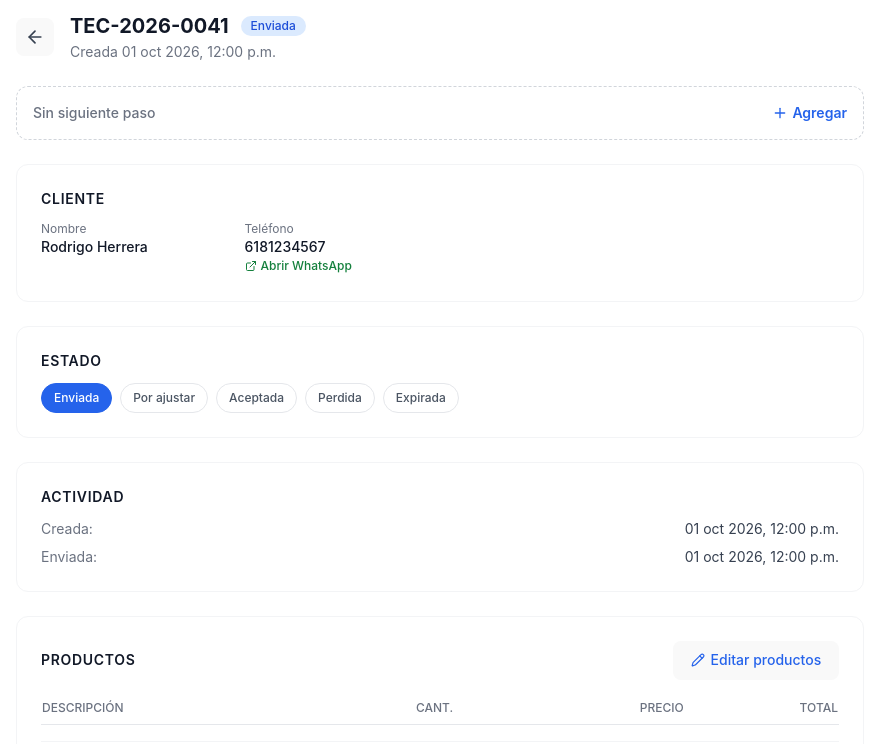
Test case: adds a next step: text, owner and a quick due date in a few taps
Click the button "Sin siguiente paso Agregar": (94, 112) 16,86 -> 864,140
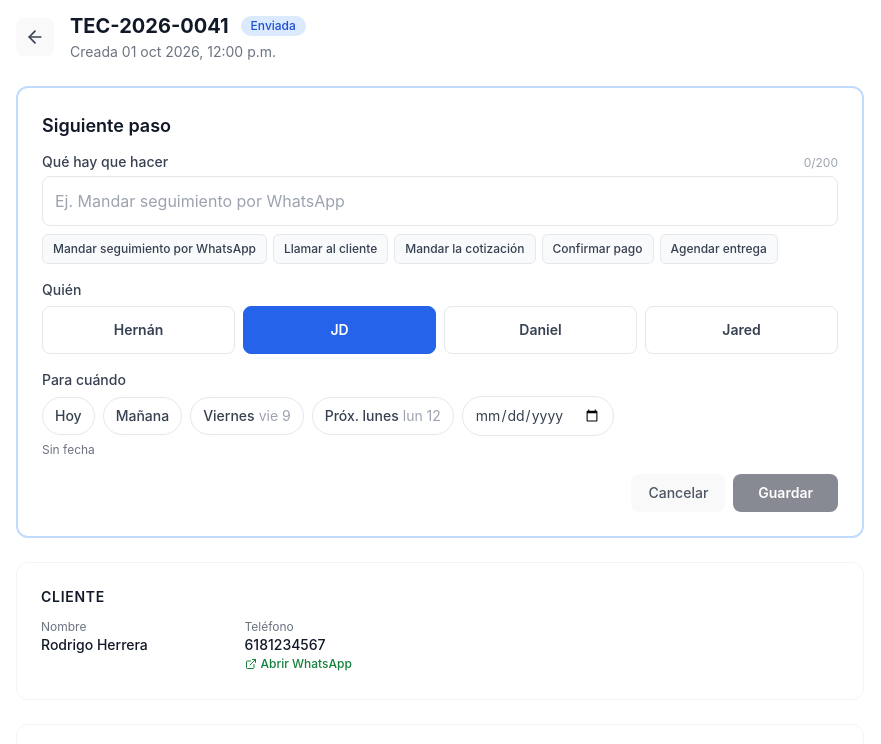
Expected: the button "Guardar" is disabled, 733,474 -> 838,512
In the field labelled "Qué hay que hacer": (440, 201) 42,176 -> 838,226, type "Llamar a Don Pedro"
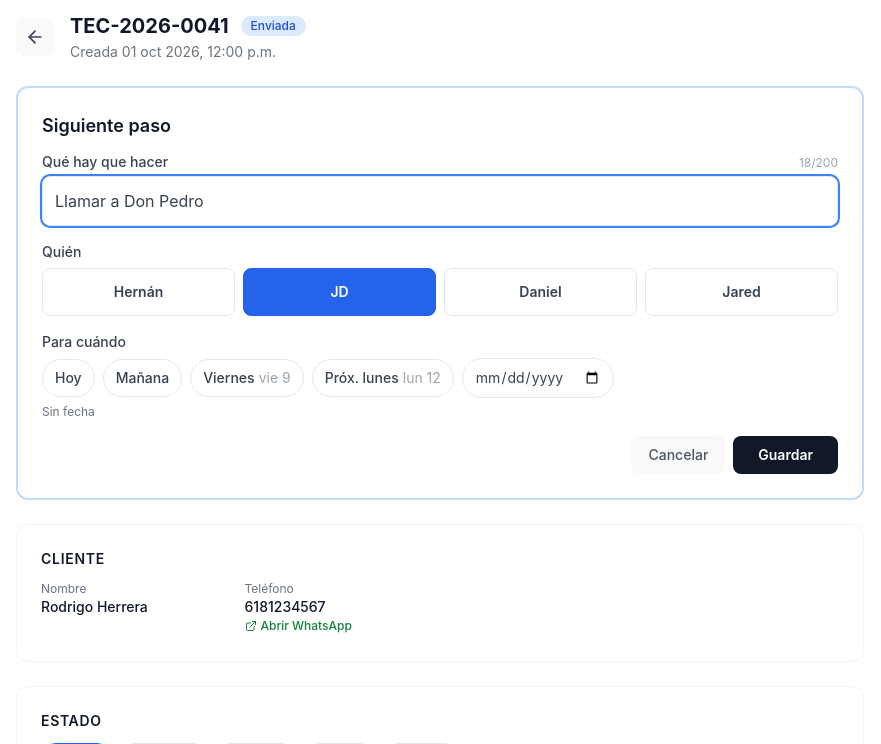
Expected: the text "18/200" is shown, 799,155 -> 838,171
Click the button "Hernán": (138, 292) 42,268 -> 235,316
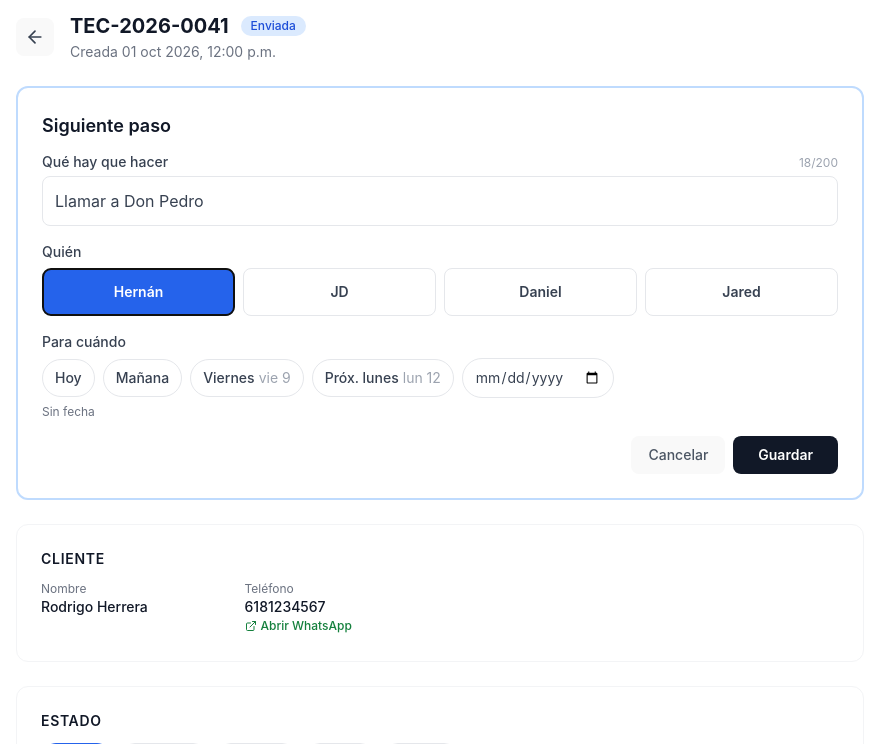
Click the button "Mañana": (142, 378) 103,359 -> 182,397
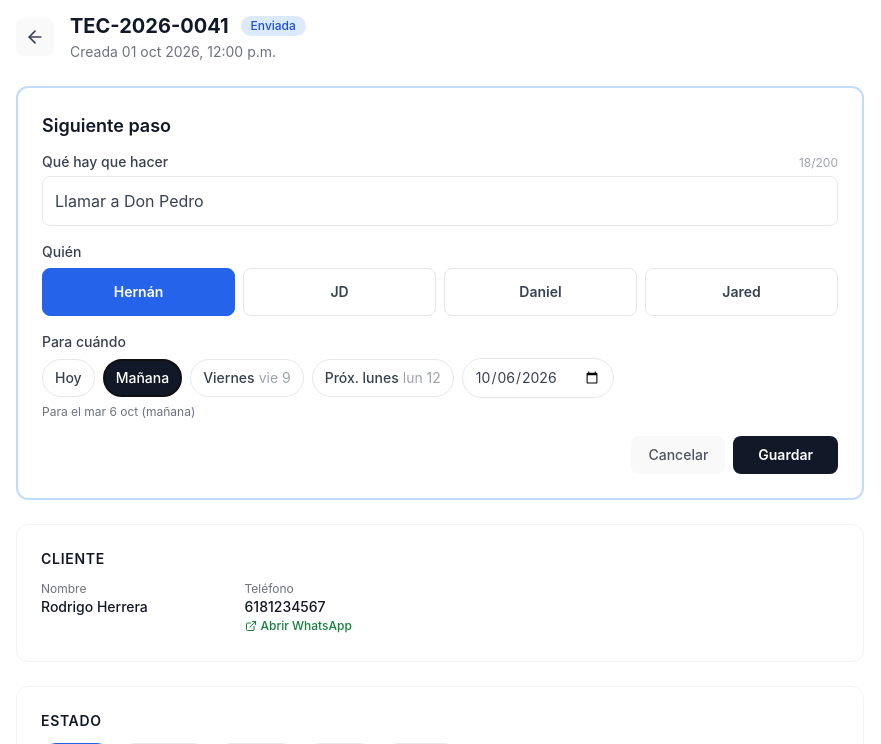
Expected: the text "Para el mar 6 oct (mañana)" is shown, 42,404 -> 195,419
Click the button "Guardar": (786, 455) 733,436 -> 838,474
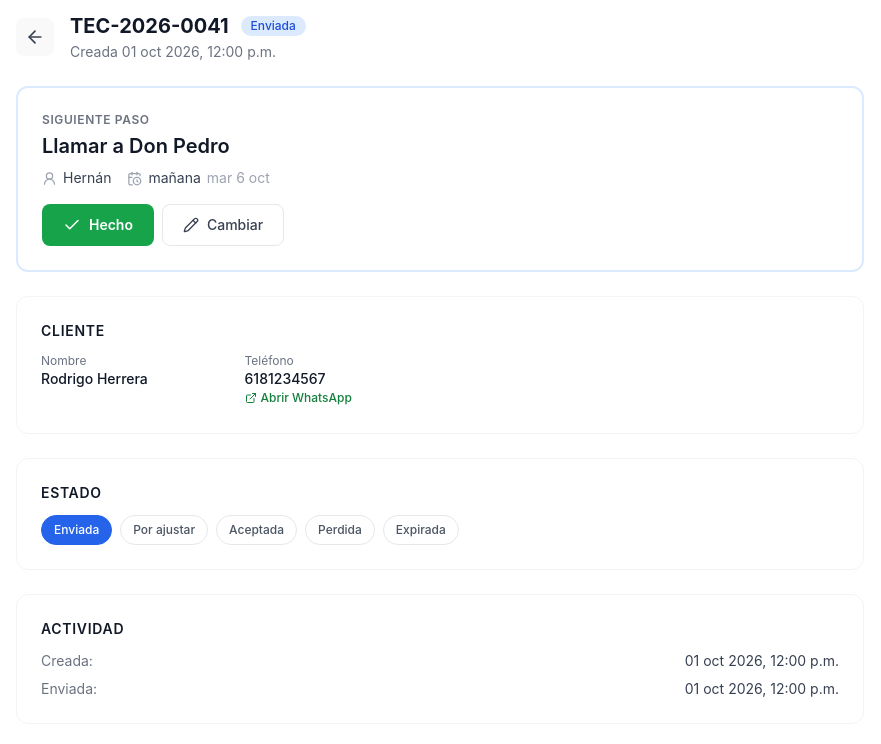
Expected: the text "Hernán" is shown, 42,168 -> 112,188
Expected: the text "mañana" is shown, 148,168 -> 201,188
Expected: the text "Llamar a Don Pedro" is shown, 42,134 -> 230,158
